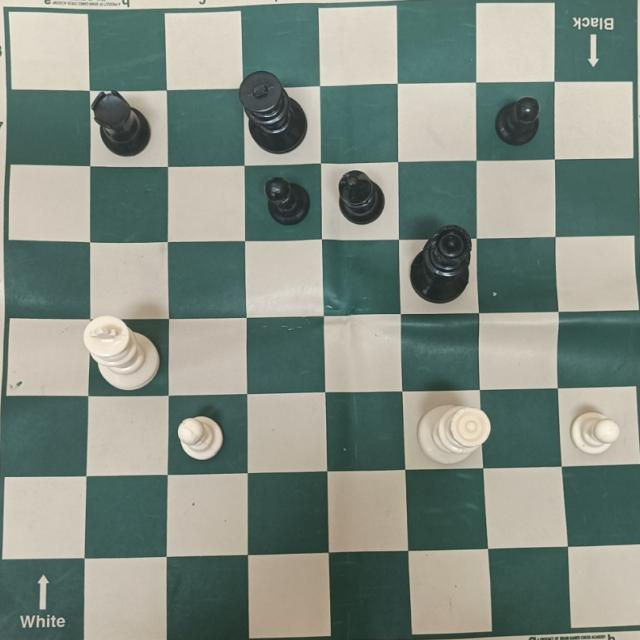black-bishop: (338, 170, 386, 225)
black-king: (239, 72, 307, 154)
black-pawn: (264, 178, 311, 225), (498, 96, 540, 147)
black-queen: (411, 231, 472, 303)
black-rook: (91, 91, 151, 155)
white-king: (84, 314, 161, 391)
white-pawn: (178, 413, 226, 459), (574, 411, 619, 454)
white-queen: (417, 403, 490, 462)
